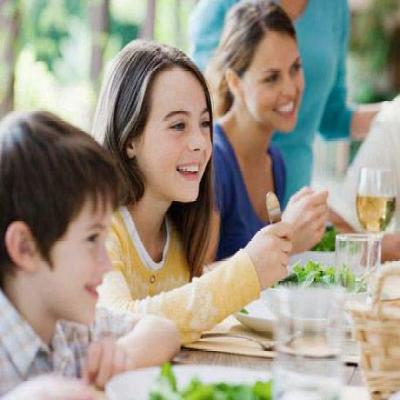happy: (48, 174, 116, 323), (144, 71, 212, 203), (248, 36, 305, 137)
